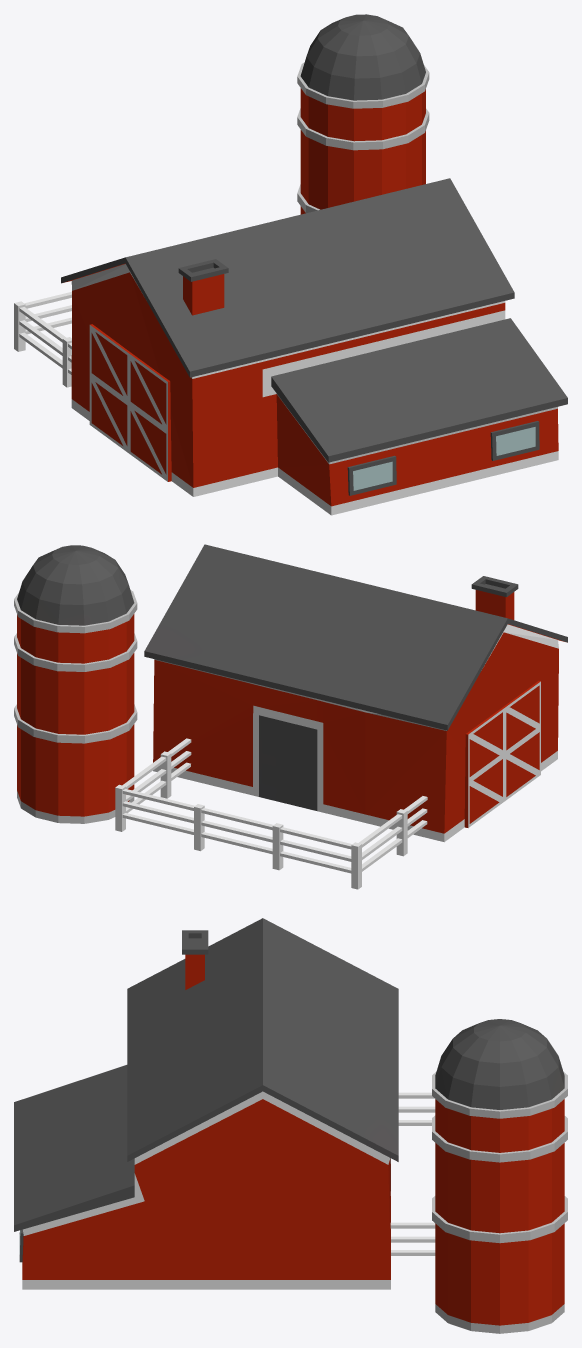
The model's file is 5GDbUJV2vQb.glb.
The picture shows the model from 3 angles, top to bottom: view 1: azimuth 30°, elevation 25°; view 2: azimuth 150°, elevation 25°; view 3: azimuth 270°, elevation 25°; orthographic projection. The views are drawn at different scales.
Parts seen in each view (by area): view 1: Farm; view 2: Farm; view 3: Farm.
Part boxes in pixels (<box>): Farm: <box>14,14,567,515</box>; Farm: <box>14,544,567,889</box>; Farm: <box>14,918,567,1333</box>.
Size of the model in its own units: 1.6 by 1 by 1.79.
Materials: 1 (1 with a texture image).
